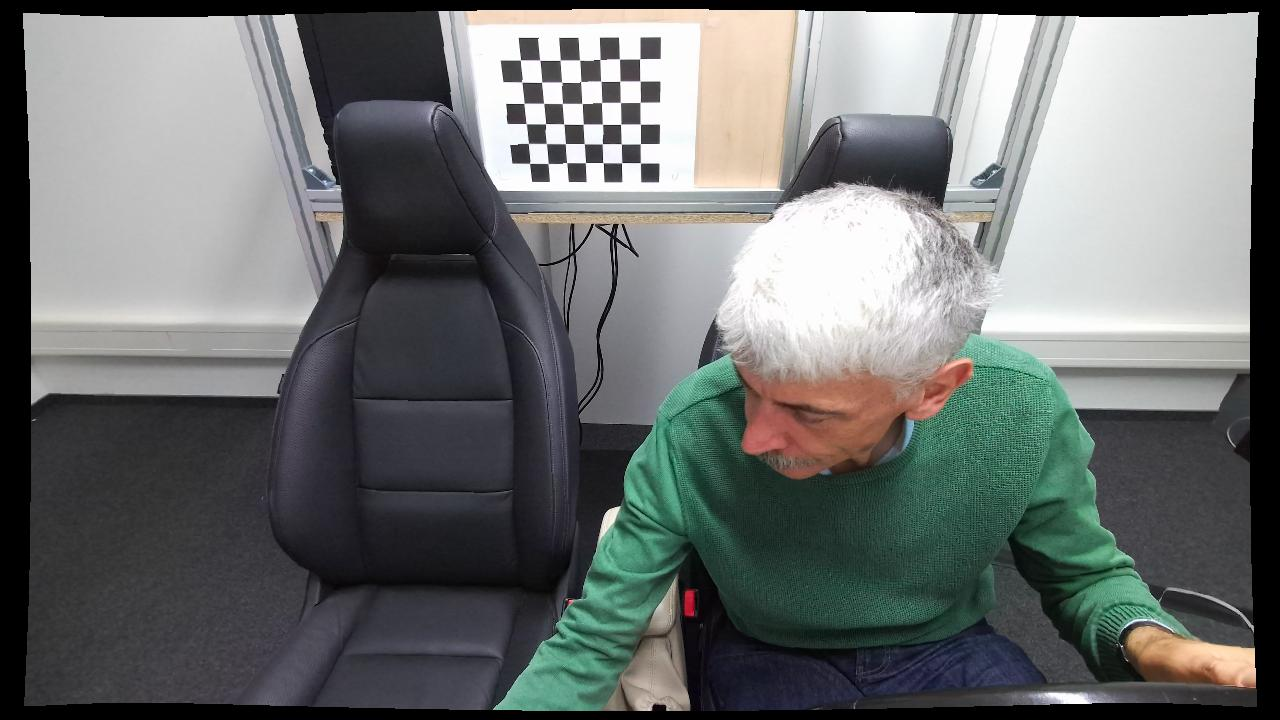Distracted: (491, 180, 1174, 710)
